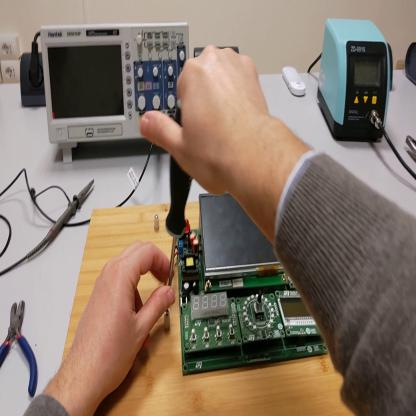hand: (141, 43, 275, 193), (74, 241, 175, 396)
low voltage board: (170, 182, 330, 377)
oscilloscope: (42, 26, 189, 162)
oscilloscope probe tip: (28, 179, 95, 265)
pliers: (3, 300, 37, 397), (407, 133, 416, 160)
screwdriver-: (166, 102, 194, 307)
socket: (20, 51, 47, 108), (404, 42, 416, 85), (387, 44, 395, 89)
welder station: (319, 20, 389, 142)
working area: (64, 200, 352, 416)
